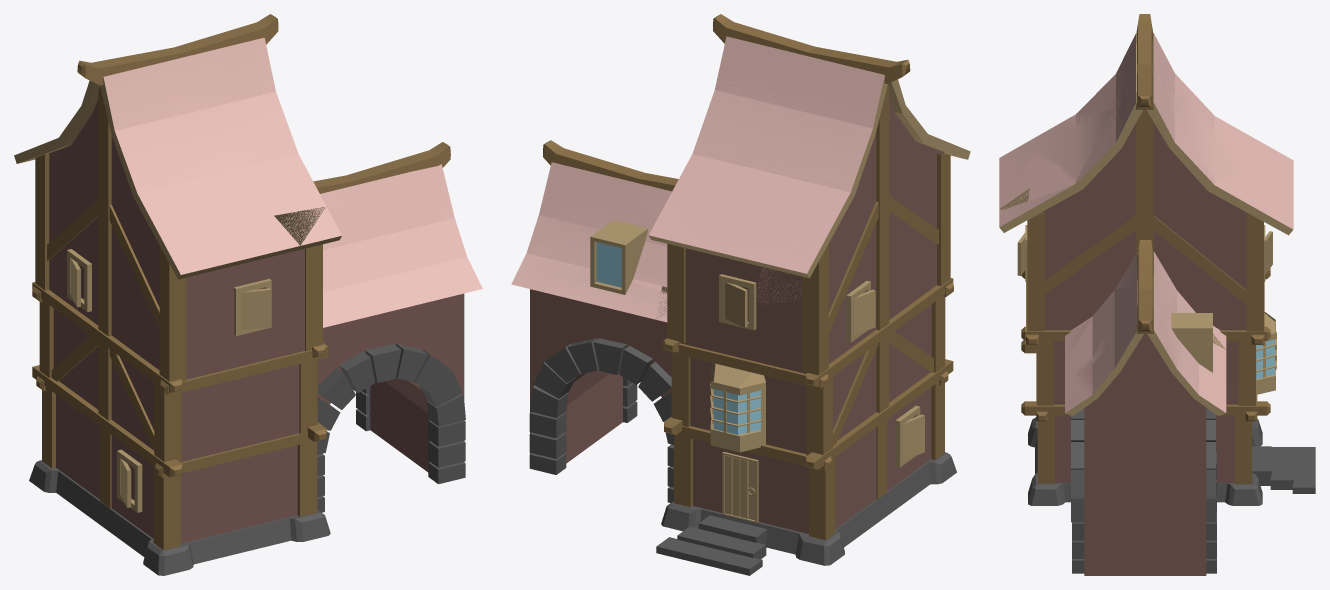
Rendered from House03_FBX.fbx.
3 views of the same model, side by side, from view 1: azimuth 30°, elevation 25°; view 2: azimuth 150°, elevation 25°; view 3: azimuth 270°, elevation 25° (orthographic). The views are drawn at different scales.
Visible parts, largest first — view 1: Intact, polySurface92, polySurface94, polySurface95, polySurface89, polySurface91, polySurface142, polySurface88, polySurface155, polySurface96, polySurface93, polySurface165 (+68 smaller); view 2: Intact, polySurface87, polySurface84, polySurface86, polySurface85, polySurface83, polySurface138, polySurface82, polySurface8, polySurface149, polySurface4, polySurface97 (+78 smaller); view 3: Intact, polySurface139, polySurface141, polySurface134, polySurface87, polySurface138, polySurface142, polySurface84, polySurface145, polySurface95, polySurface91, polySurface93 (+50 smaller).
Boxes of the visible parts, <box> form: Intact: <box>18,38,482,563</box>; polySurface92: <box>112,112,232,196</box>; polySurface94: <box>133,170,273,237</box>; polySurface95: <box>156,215,300,279</box>; polySurface89: <box>162,37,275,111</box>; polySurface91: <box>192,92,298,169</box>; polySurface142: <box>357,293,464,353</box>; polySurface88: <box>100,62,190,134</box>; polySurface155: <box>377,164,454,234</box>; polySurface96: <box>115,515,248,575</box>; polySurface93: <box>234,154,325,215</box>; polySurface165: <box>387,218,466,274</box>; Intact: <box>512,36,969,574</box>; polySurface87: <box>703,171,854,278</box>; polySurface84: <box>648,154,761,252</box>; polySurface86: <box>762,111,875,195</box>; polySurface85: <box>692,90,799,170</box>; polySurface83: <box>714,36,828,110</box>; polySurface138: <box>530,289,635,347</box>; polySurface82: <box>800,61,887,132</box>; polySurface8: <box>717,450,808,533</box>; polySurface149: <box>539,162,611,228</box>; polySurface4: <box>742,301,806,373</box>; polySurface97: <box>766,486,898,565</box>; Intact: <box>999,34,1315,575</box>; polySurface139: <box>1142,449,1206,575</box>; polySurface141: <box>1084,449,1141,575</box>; polySurface134: <box>1093,334,1197,401</box>; polySurface87: <box>1214,116,1293,205</box>; polySurface138: <box>1142,402,1206,450</box>; polySurface142: <box>1084,402,1141,449</box>; polySurface84: <box>1208,167,1293,235</box>; polySurface145: <box>1176,313,1212,372</box>; polySurface95: <box>999,148,1034,208</box>; polySurface91: <box>1076,107,1120,188</box>; polySurface93: <box>1027,166,1082,216</box>.
Size of the model in its own units: 10.37 by 12.56 by 8.73.
